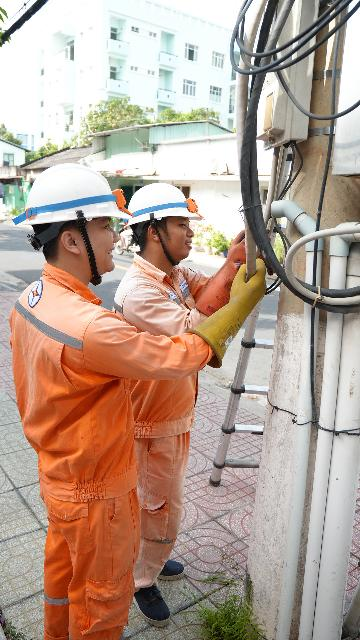gloves: (190, 253, 267, 365), (198, 220, 270, 318)
helmet: (21, 156, 136, 230), (123, 186, 221, 229)
shoes: (126, 576, 182, 632), (141, 557, 210, 579)
